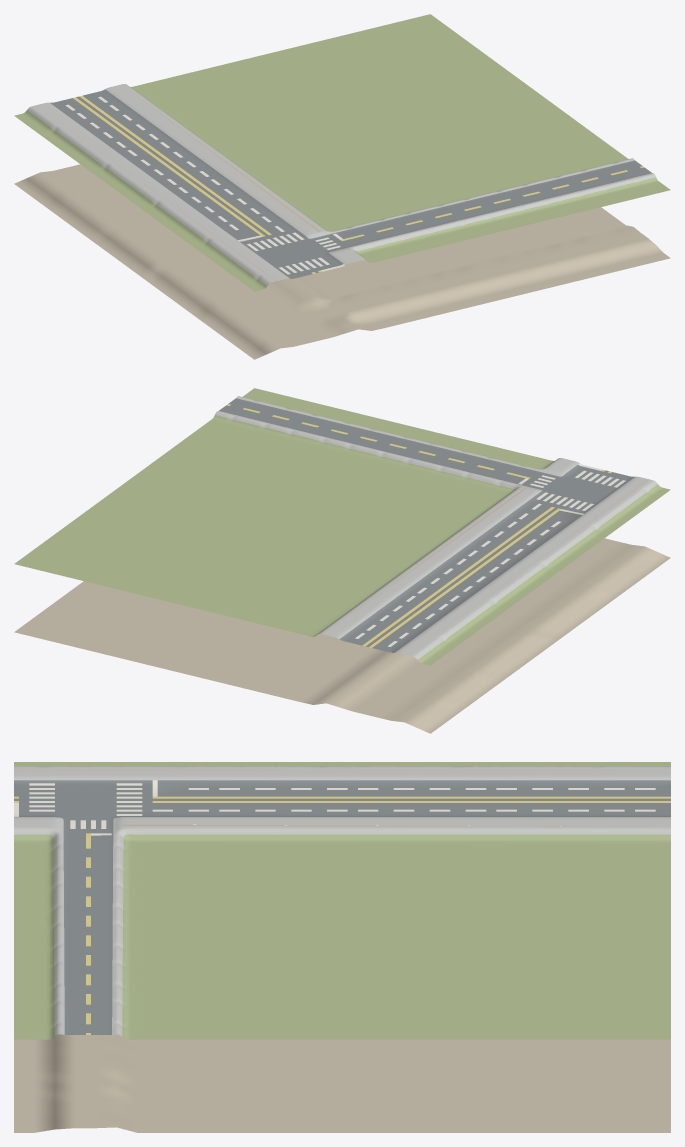
The picture shows the model from 3 angles, top to bottom: view 1: azimuth 30°, elevation 25°; view 2: azimuth 150°, elevation 25°; view 3: azimuth 270°, elevation 25°; orthographic projection. The views are drawn at different scales.
Visible parts, largest first — view 1: s_-11_2__grass, s_-11_2__soil, s_-11_2__asphalt, s_-11_2__stone_paving, s_-11_2__yellow_marking, s_-11_2__white_marking, s_-11_2__timber_deck; view 2: s_-11_2__grass, s_-11_2__soil, s_-11_2__asphalt, s_-11_2__stone_paving, s_-11_2__yellow_marking, s_-11_2__white_marking, s_-11_2__timber_deck; view 3: s_-11_2__grass, s_-11_2__soil, s_-11_2__asphalt, s_-11_2__stone_paving, s_-11_2__yellow_marking, s_-11_2__white_marking, s_-11_2__timber_deck.
Part boxes in pixels (x1,y1,x2,y2): s_-11_2__grass: (14,14,670,291); s_-11_2__soil: (14,164,670,359); s_-11_2__asphalt: (50,89,651,278); s_-11_2__stone_paving: (27,84,655,285); s_-11_2__yellow_marking: (73,95,644,273); s_-11_2__white_marking: (65,96,345,274); s_-11_2__timber_deck: (48,90,320,281); s_-11_2__grass: (14,388,670,665); s_-11_2__soil: (14,538,670,733); s_-11_2__asphalt: (219,398,634,652); s_-11_2__stone_paving: (215,396,657,659); s_-11_2__yellow_marking: (227,404,611,647); s_-11_2__white_marking: (355,463,625,646); s_-11_2__timber_deck: (326,479,648,652); s_-11_2__grass: (14,762,670,1039); s_-11_2__soil: (14,1034,670,1132); s_-11_2__asphalt: (14,780,670,1034); s_-11_2__stone_paving: (14,766,670,1036); s_-11_2__yellow_marking: (14,796,670,1034); s_-11_2__white_marking: (14,780,655,835); s_-11_2__timber_deck: (14,769,651,826).
Bounding box in the file's own units: 128 × 21.51 × 128.
